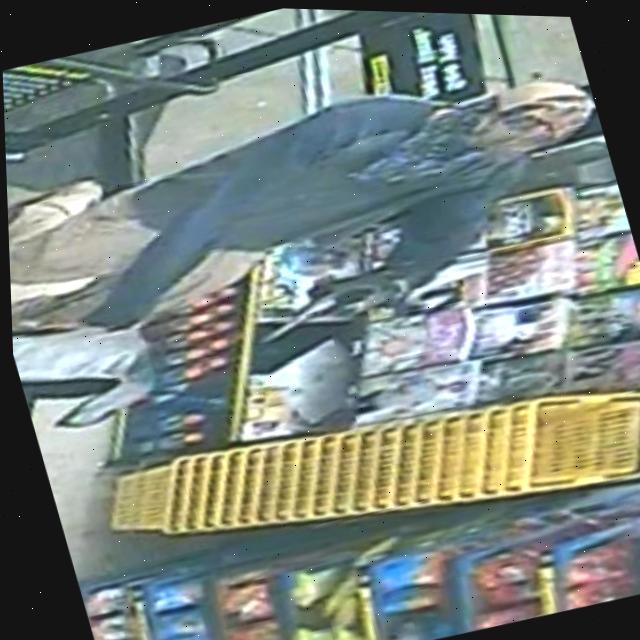gun: (248, 273, 380, 350)
